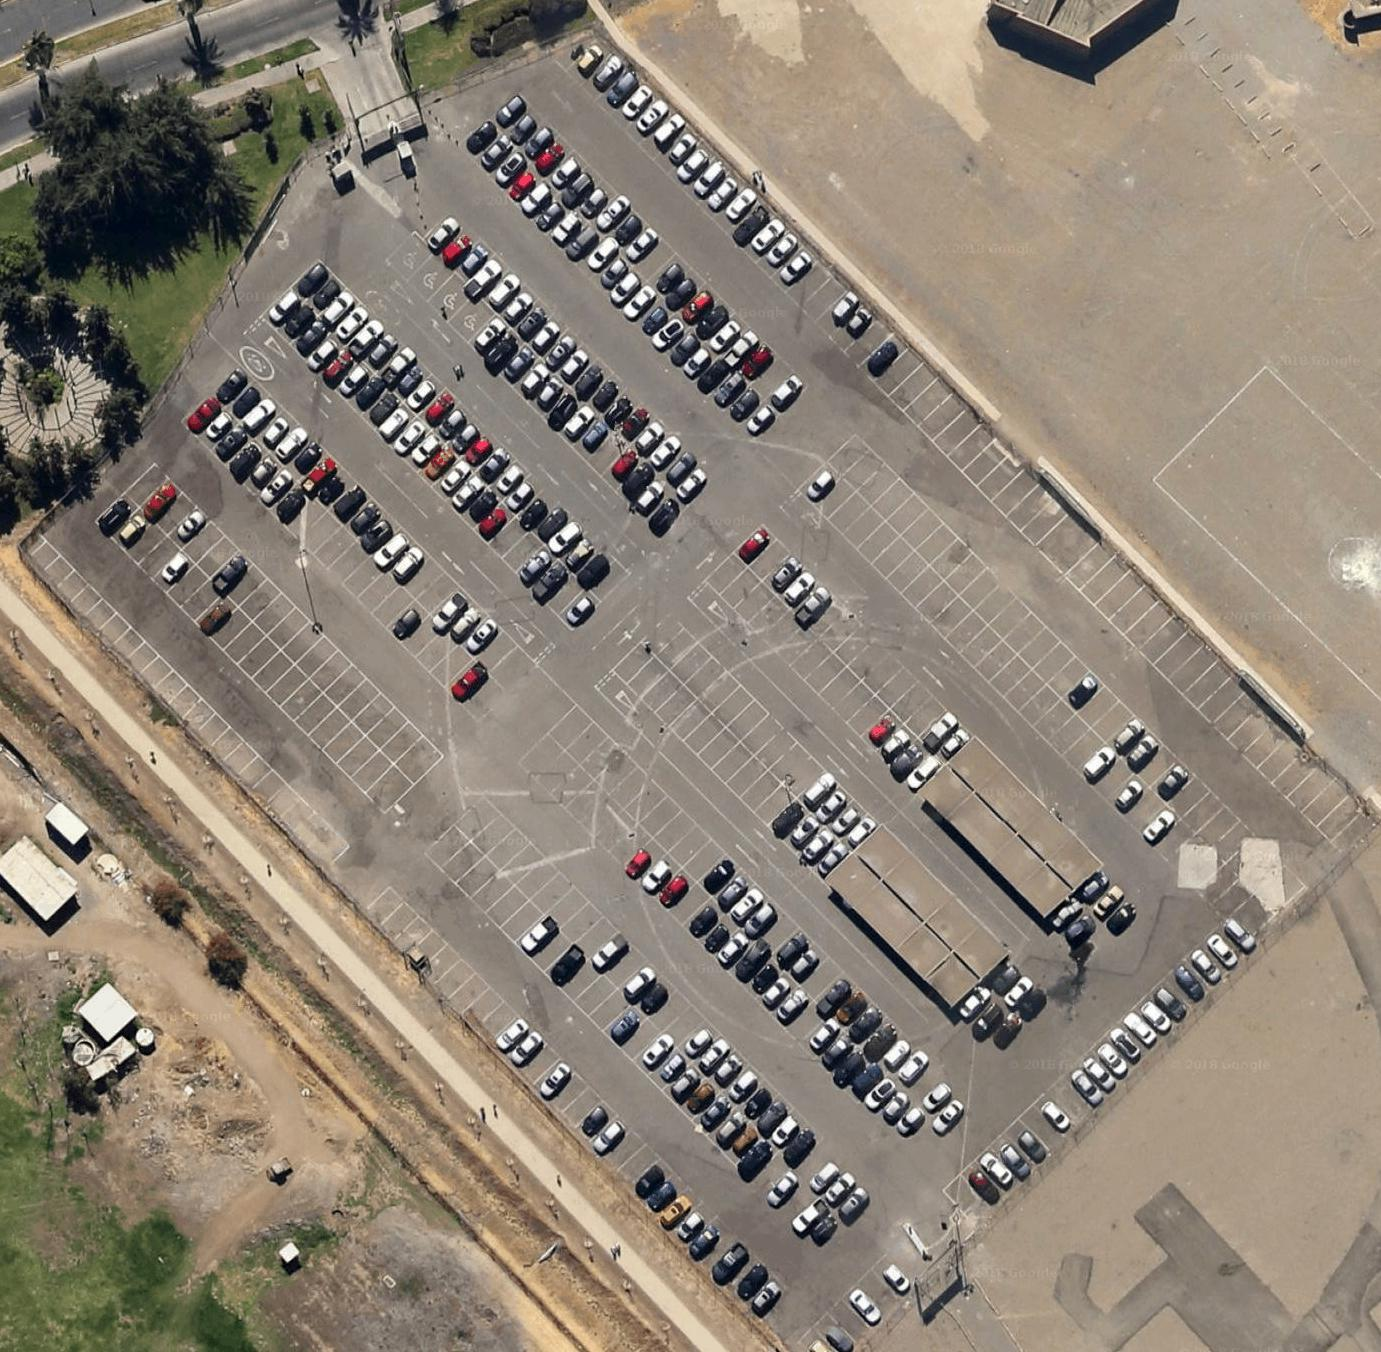parkingspot: (562, 36, 1071, 548), (825, 432, 1287, 894), (795, 461, 1257, 920), (364, 884, 791, 1321), (546, 702, 974, 1134), (452, 794, 881, 1223), (422, 823, 848, 1250), (516, 730, 935, 1150), (289, 258, 634, 605), (180, 392, 510, 724), (209, 364, 540, 695), (27, 540, 351, 869), (457, 116, 782, 443), (123, 462, 445, 786), (490, 92, 811, 416), (94, 492, 416, 813), (1061, 540, 1381, 858), (941, 912, 1265, 1226), (381, 229, 692, 536), (419, 207, 718, 508), (731, 522, 978, 768), (704, 551, 948, 799), (611, 640, 855, 884), (639, 612, 883, 854), (796, 1252, 917, 1352), (951, 981, 1026, 1056), (981, 951, 1054, 1026), (1073, 864, 1142, 936), (1044, 893, 1115, 961)
